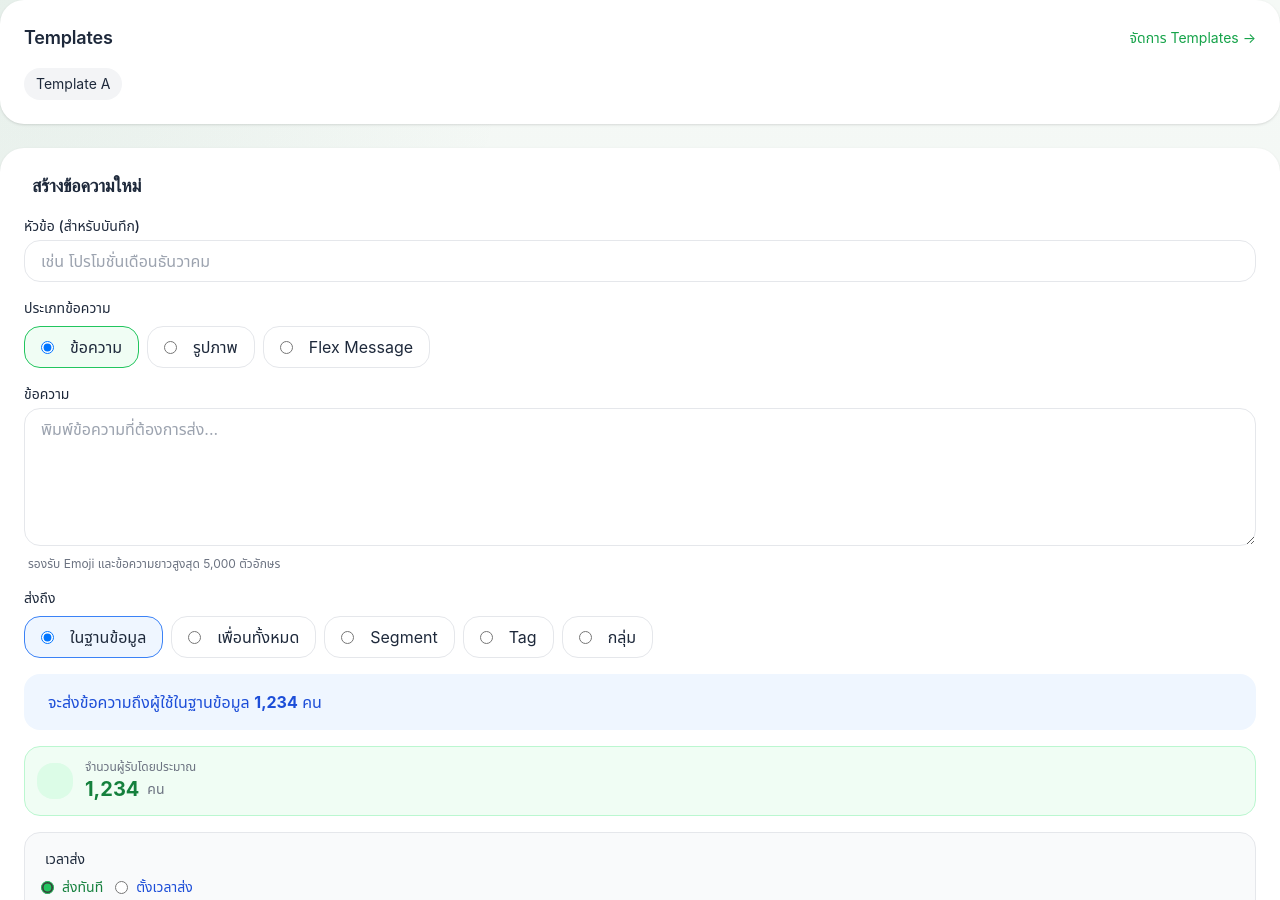
it: SendComposeForm — target-type panels › "เลือกทั้งหมด" selects every tag; the counter updates
The image size is (1280, 900).
What coordinates should you click on to do the following:
click the radio button labelled "Tag"
I would click on:
 (486, 637)
Its box is [480,630,493,644].
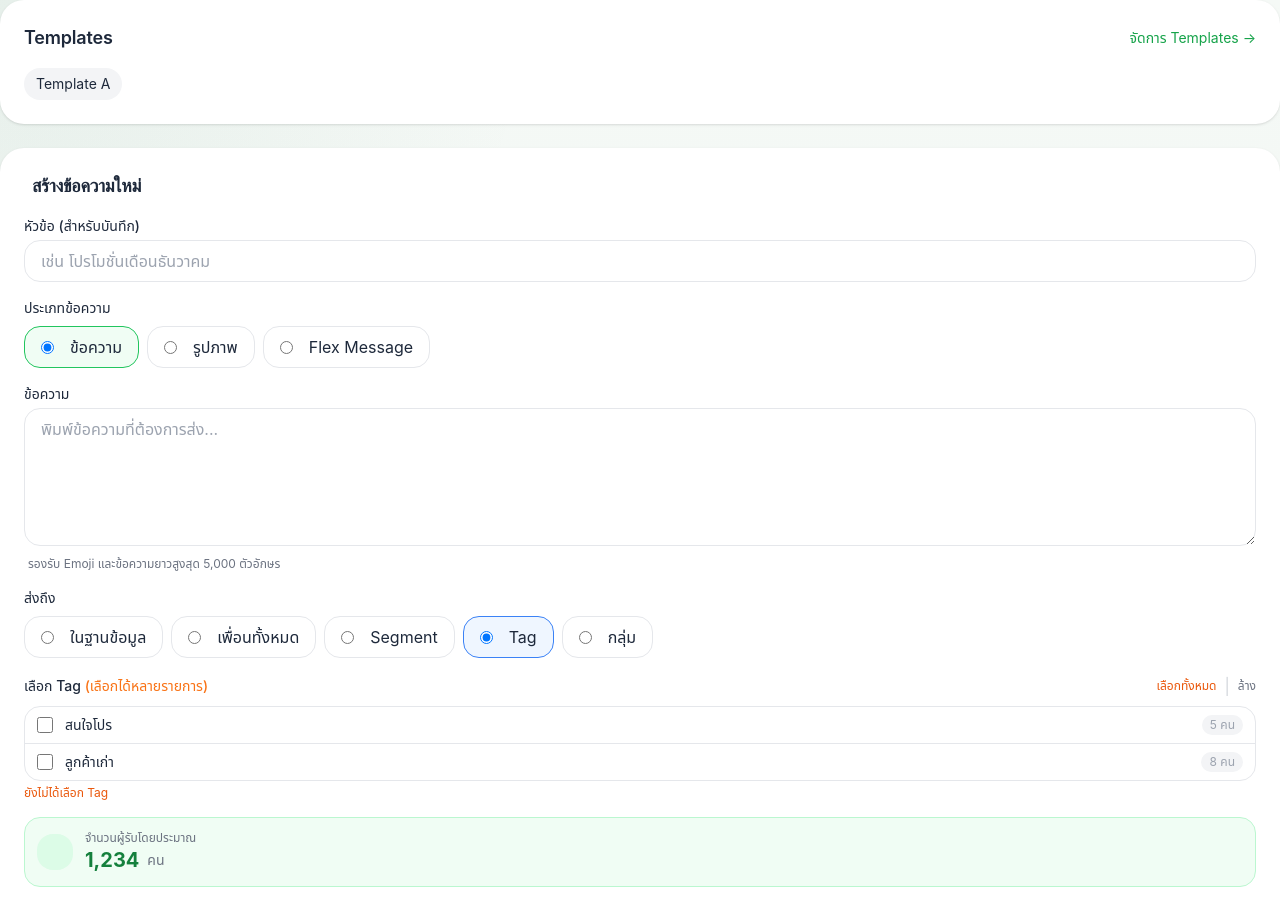
What coordinates should you click on to do the following:
click the button "เลือกทั้งหมด"
I would click on:
 (1187, 686)
Its box is [1157,674,1216,698].
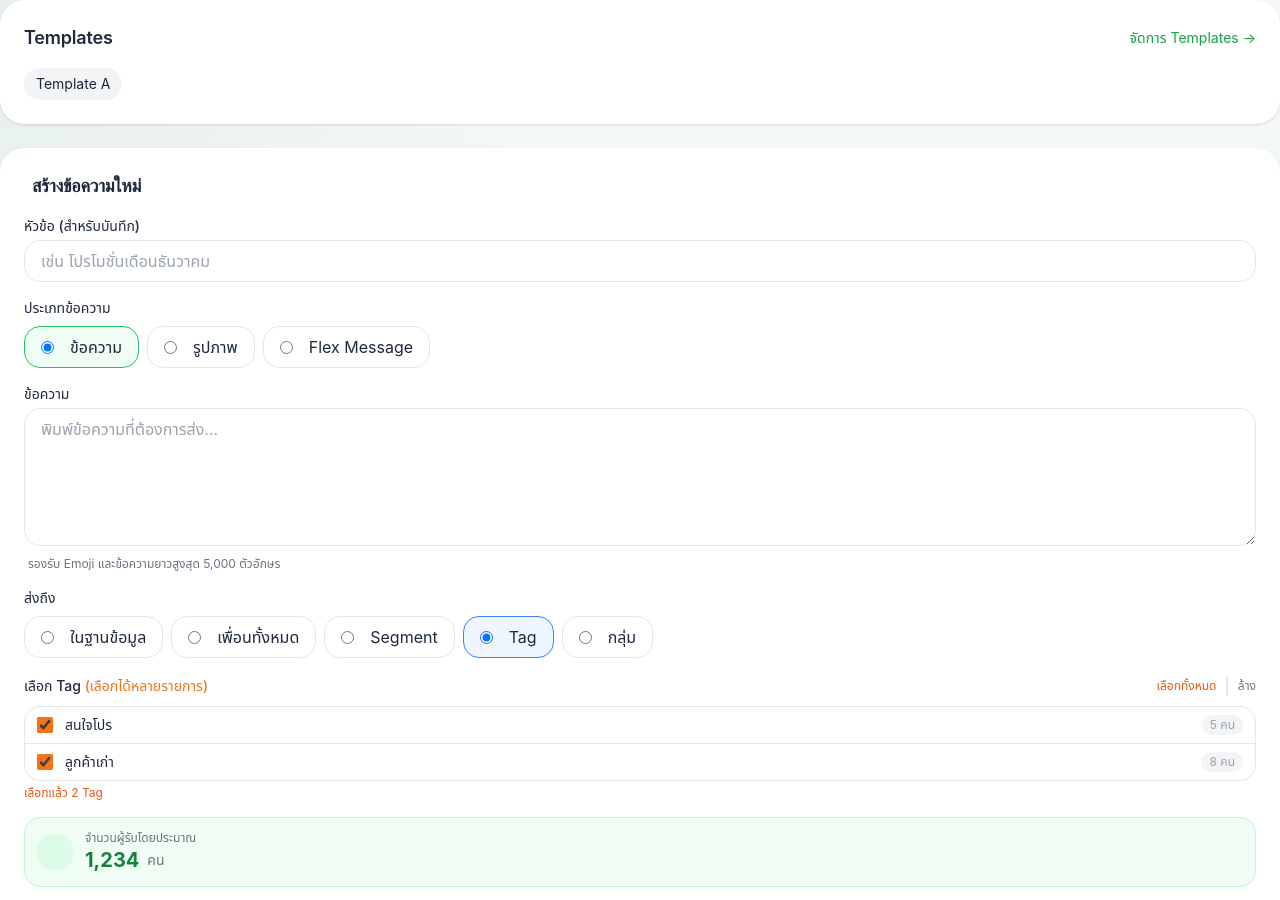
Expected: the text "เลือกแล้ว 2 Tag" is shown, [24,785,103,800]
